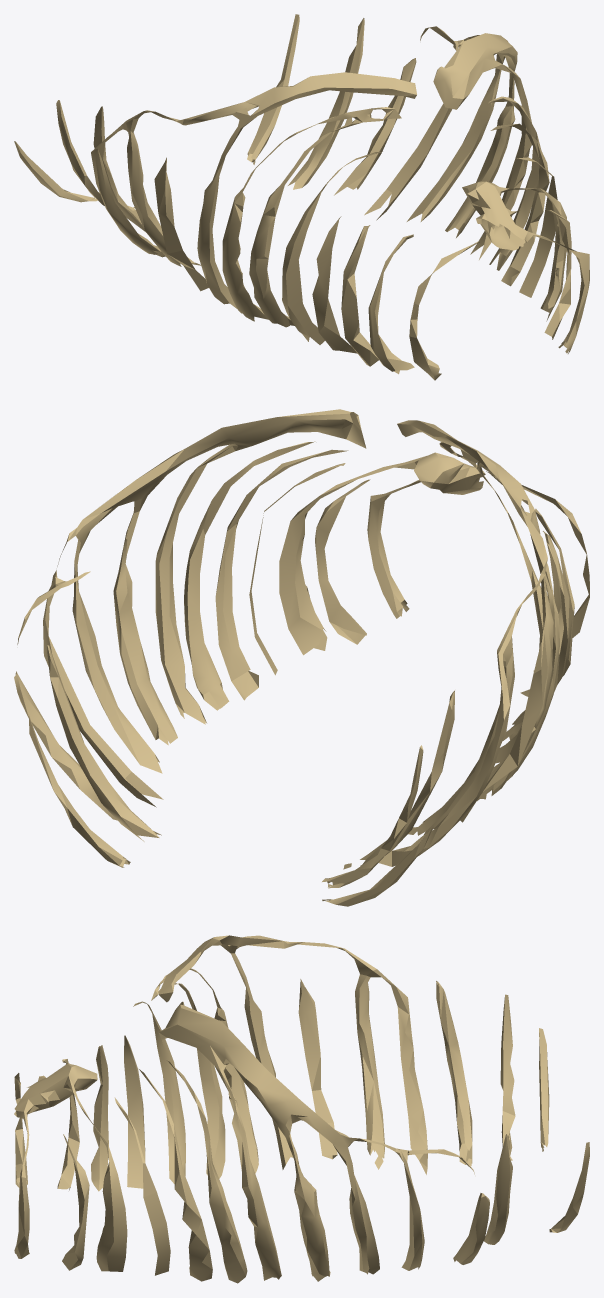
File: ribs skeleton.fbx
3 renders of one model, top to bottom at view 1: azimuth 30°, elevation 25°; view 2: azimuth 150°, elevation 25°; view 3: azimuth 270°, elevation 25°, orthographic. The views are drawn at different scales.
Parts seen in each view (by area): view 1: Merged_sub232_Merged_sub232_0; view 2: Merged_sub232_Merged_sub232_0; view 3: Merged_sub232_Merged_sub232_0.
Part boxes in pixels (box(x1,y1,x2,y2)): Merged_sub232_Merged_sub232_0: box(14, 14, 589, 380); Merged_sub232_Merged_sub232_0: box(14, 409, 589, 906); Merged_sub232_Merged_sub232_0: box(14, 935, 589, 1283).
Bounding box in the file's own units: 467 × 292 × 603.
